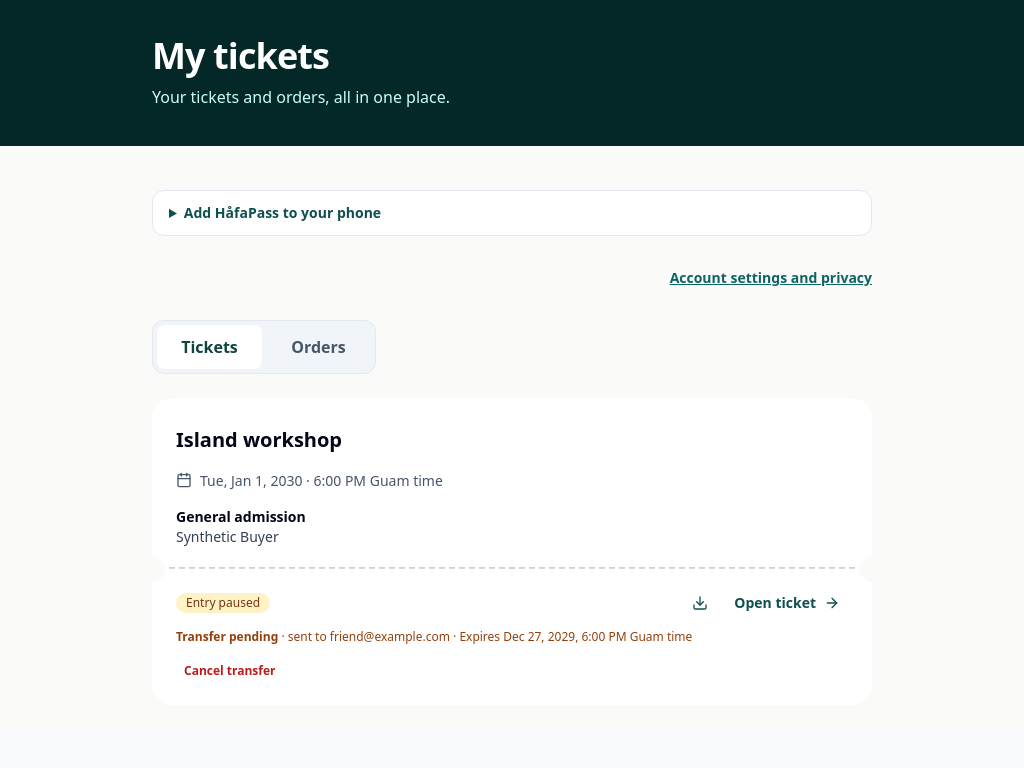
MyTicketsPage transfers › shows a pending transfer instead of Transfer and returns the ticket to normal after cancel
The width and height of the screenshot is (1024, 768).
Expected: the text "Transfer pending" shows "sent to friend@example.com · Expires Dec 27, 2029, 6:00 PM Guam time", [176,628,692,645]
Click the button "Cancel transfer": x=230, y=671 [176,649,284,693]
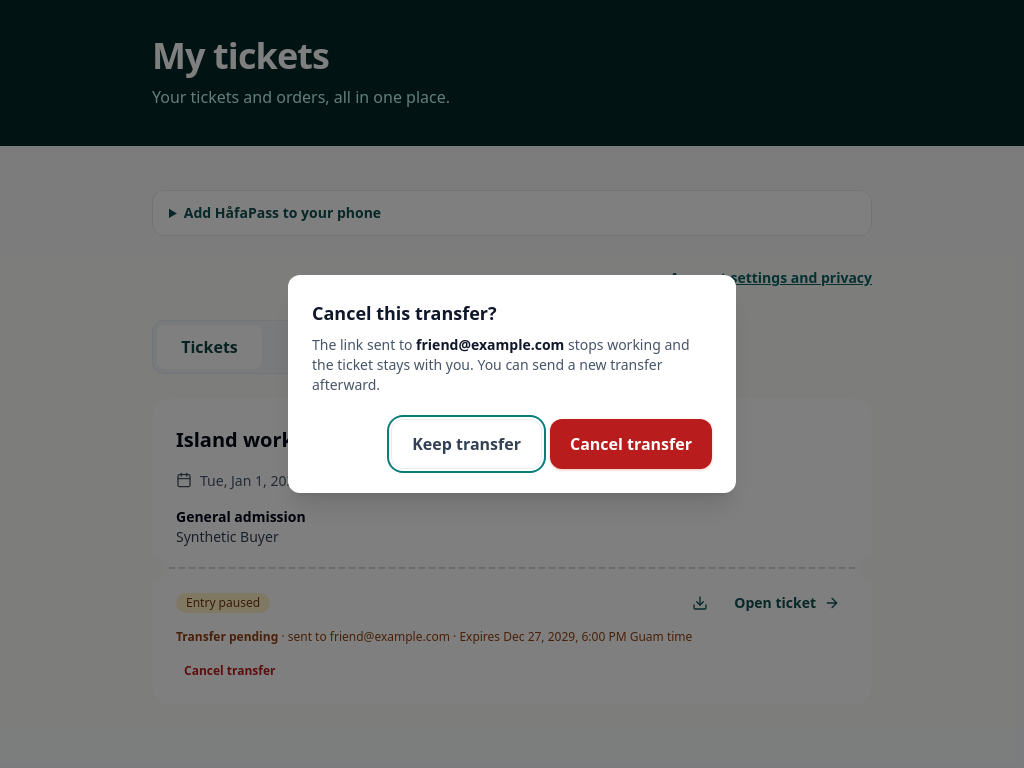
Click the button "Cancel transfer": x=631, y=444 [550,419,712,469]
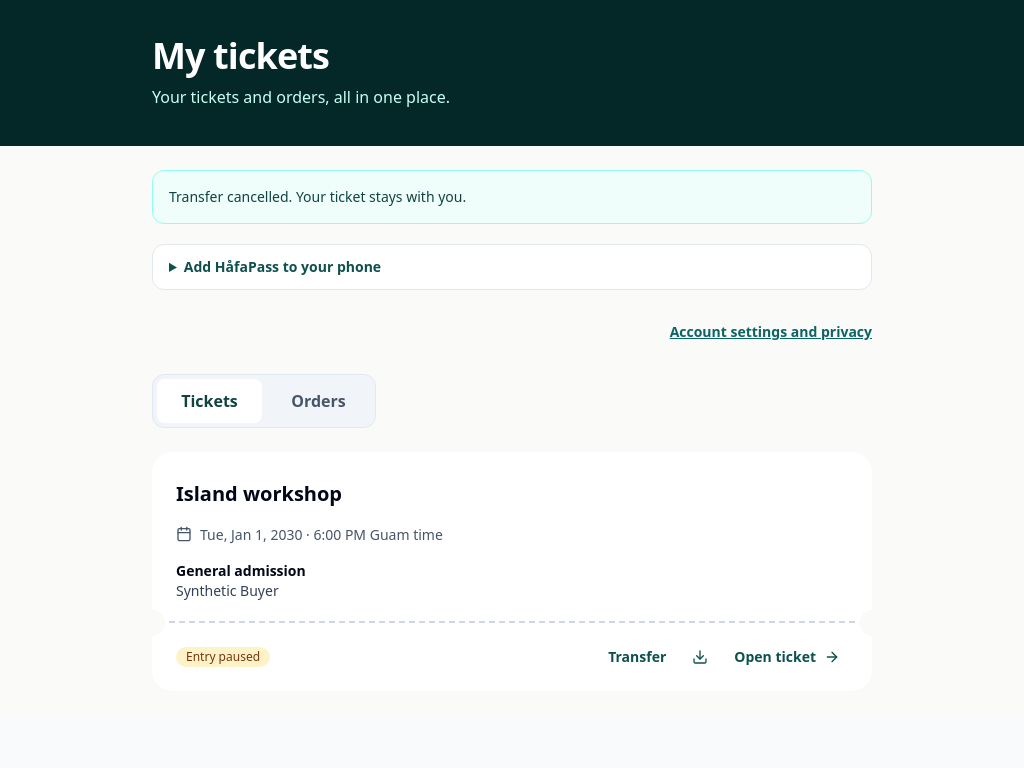
Expected: the button "Transfer" is shown, [600,635,674,679]
Result: the text "Transfer cancelled. Your ticket stays with you." is shown at [152,170,872,224]
Result: the text "Transfer pending" is gone
